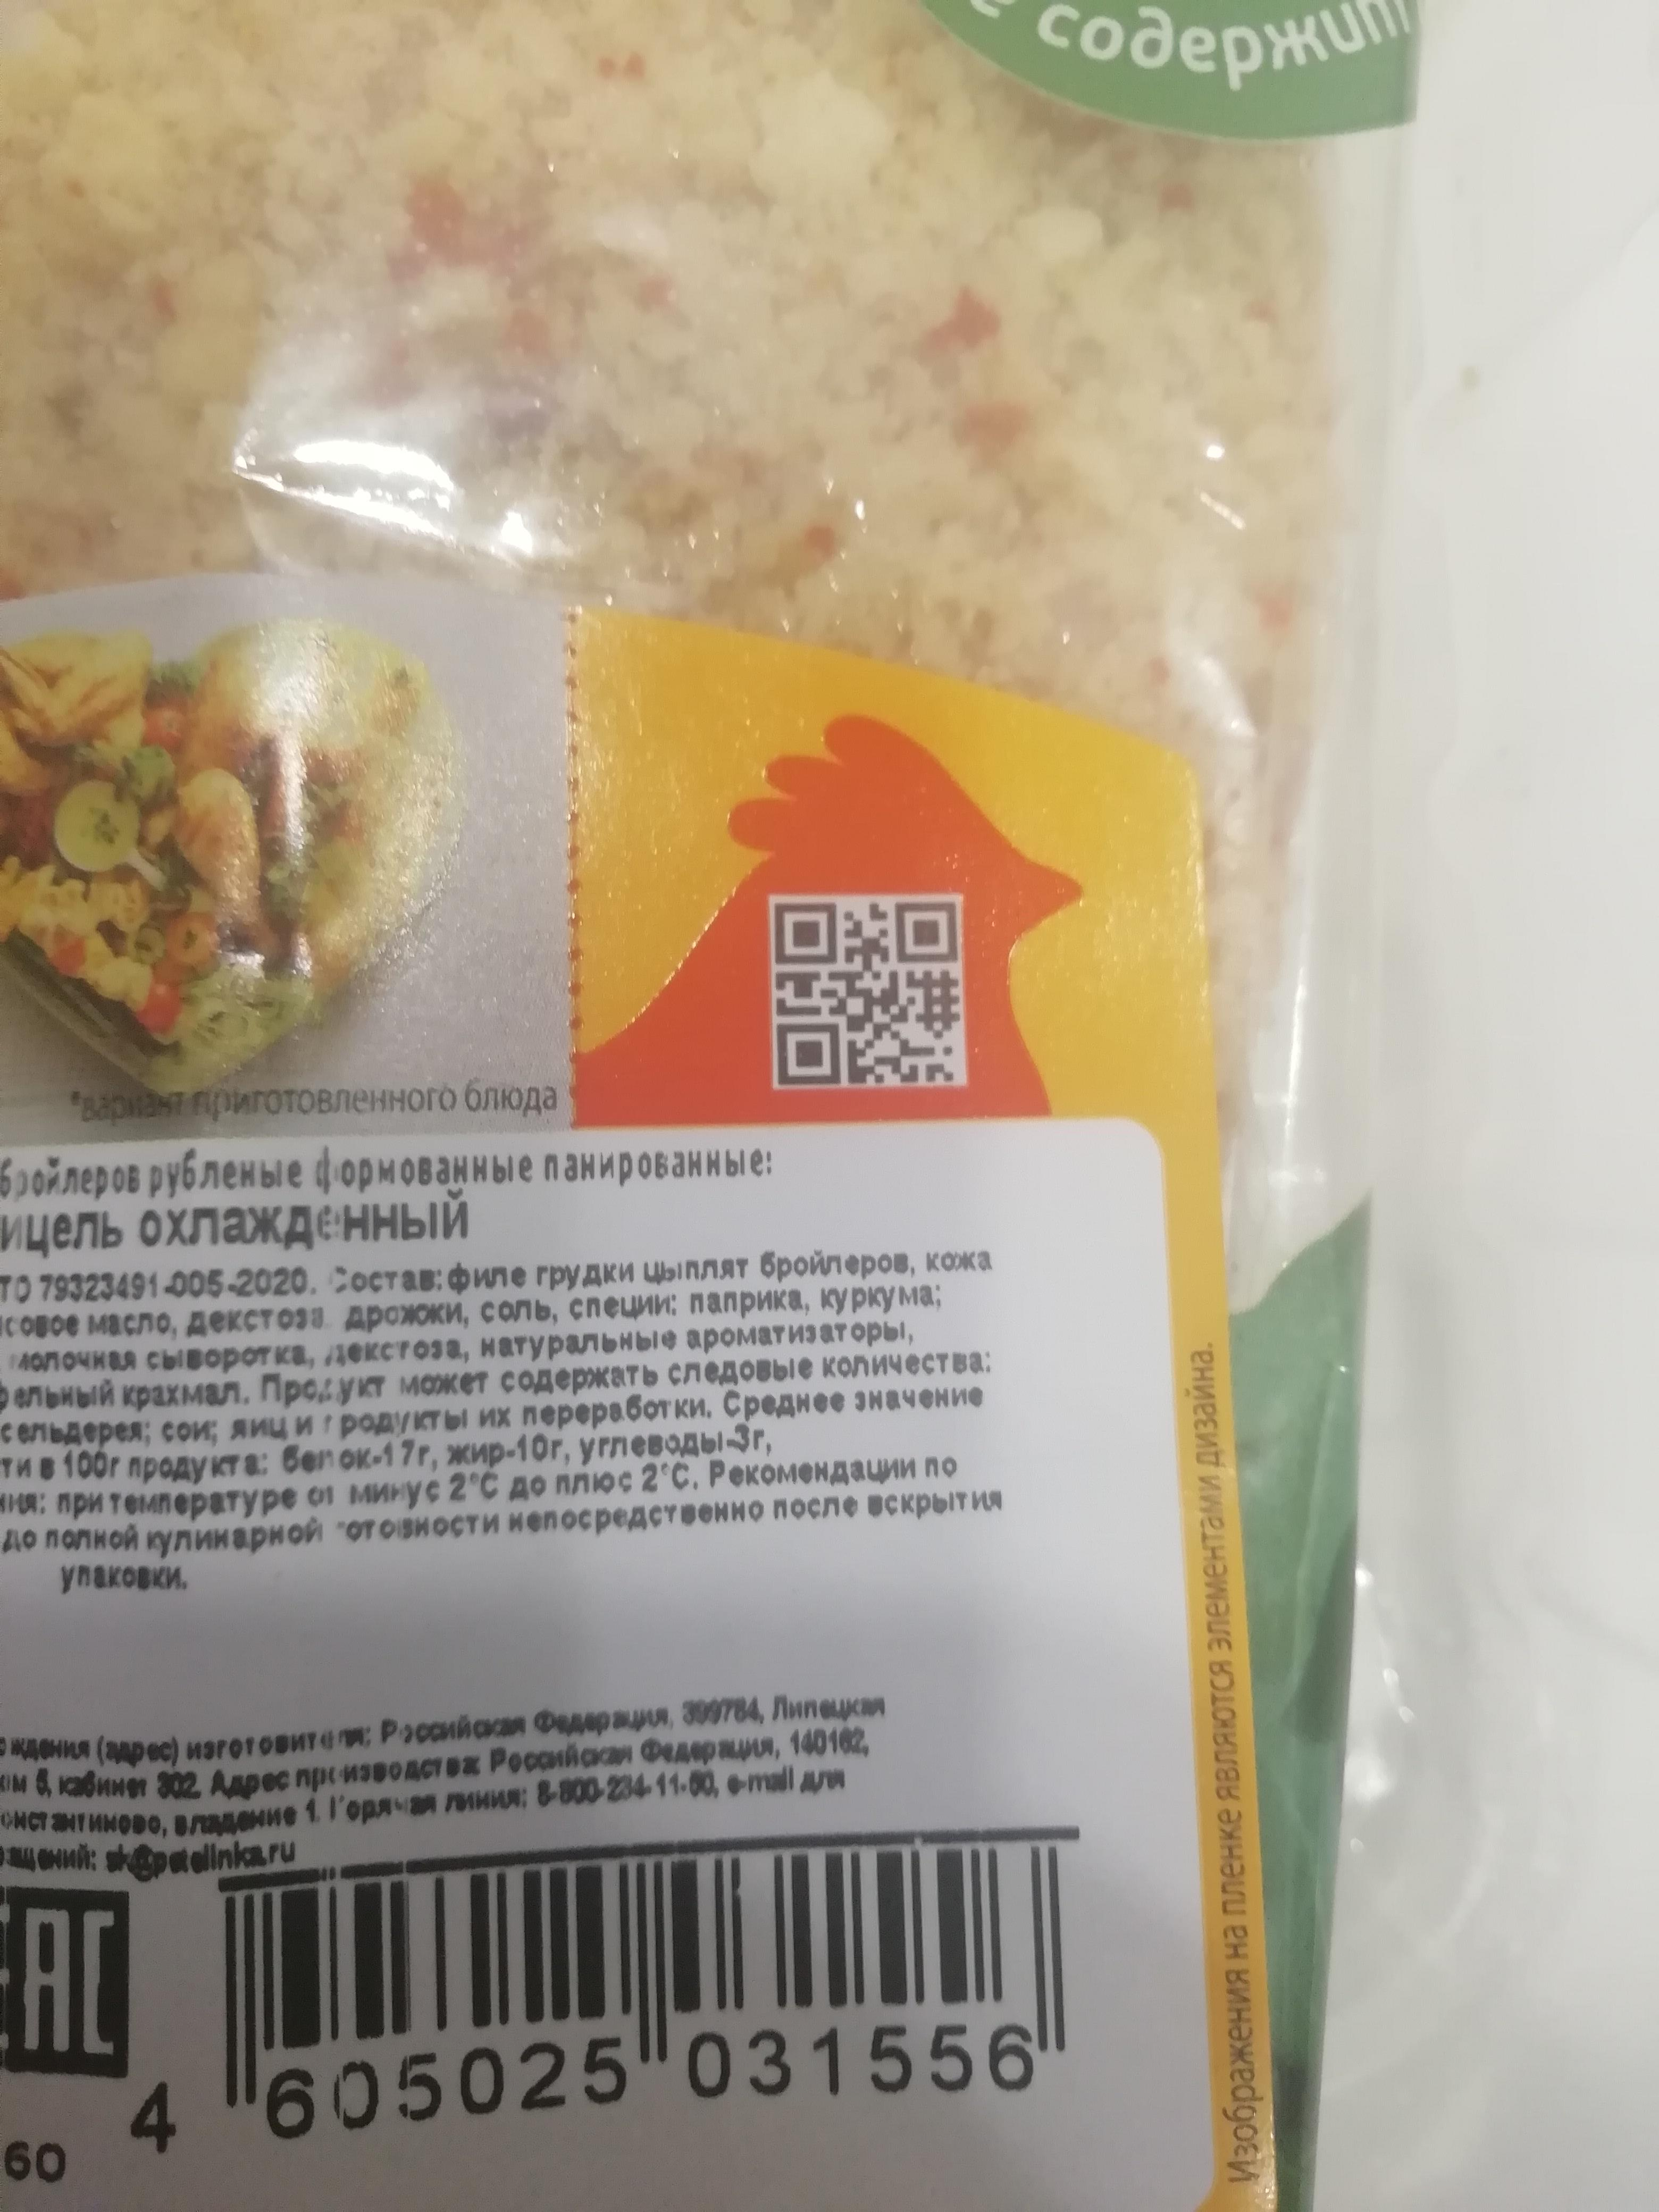qrcode: (777, 899, 958, 1089)
